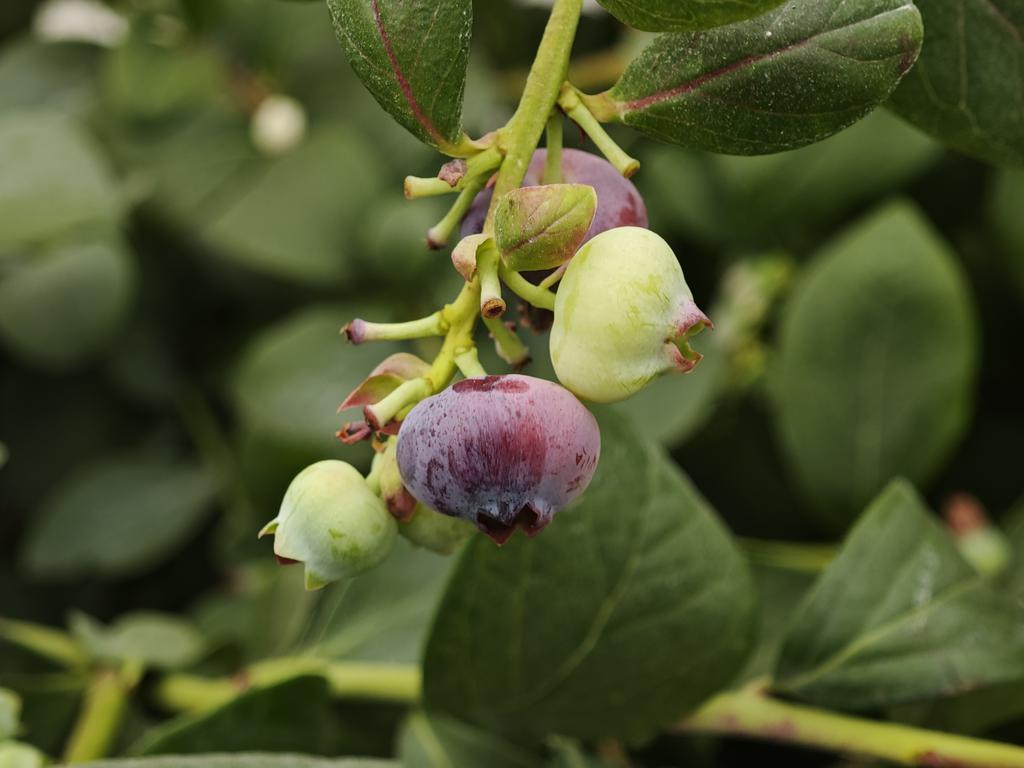Semi-RipeBlueBerry: (393, 372, 606, 533)
UnripeBlueBerry: (547, 223, 703, 404)
